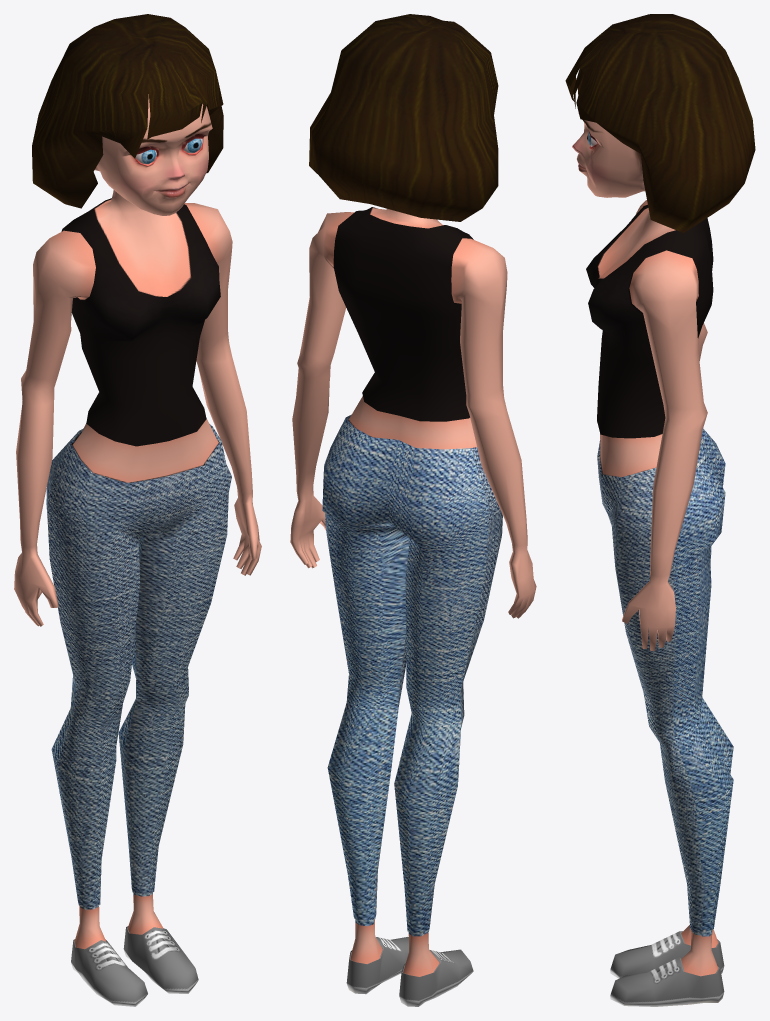
File: low-poly_girl.glb
3 renders of one model, left to right at view 1: azimuth 30°, elevation 25°; view 2: azimuth 150°, elevation 25°; view 3: azimuth 270°, elevation 25°, orthographic.
Visible parts, largest first — view 1: polySurface1, polySurface2; view 2: polySurface1, polySurface2; view 3: polySurface1, polySurface2.
Boxes of the visible parts, <box> form: polySurface1: <box>14,94,261,1006</box>; polySurface2: <box>32,14,223,208</box>; polySurface1: <box>290,207,536,1006</box>; polySurface2: <box>309,14,498,221</box>; polySurface1: <box>572,113,733,1006</box>; polySurface2: <box>565,14,755,232</box>.
Bounding box in the file's own units: 0.4459 × 1.73 × 0.3106.
2 materials, 2 textured.
